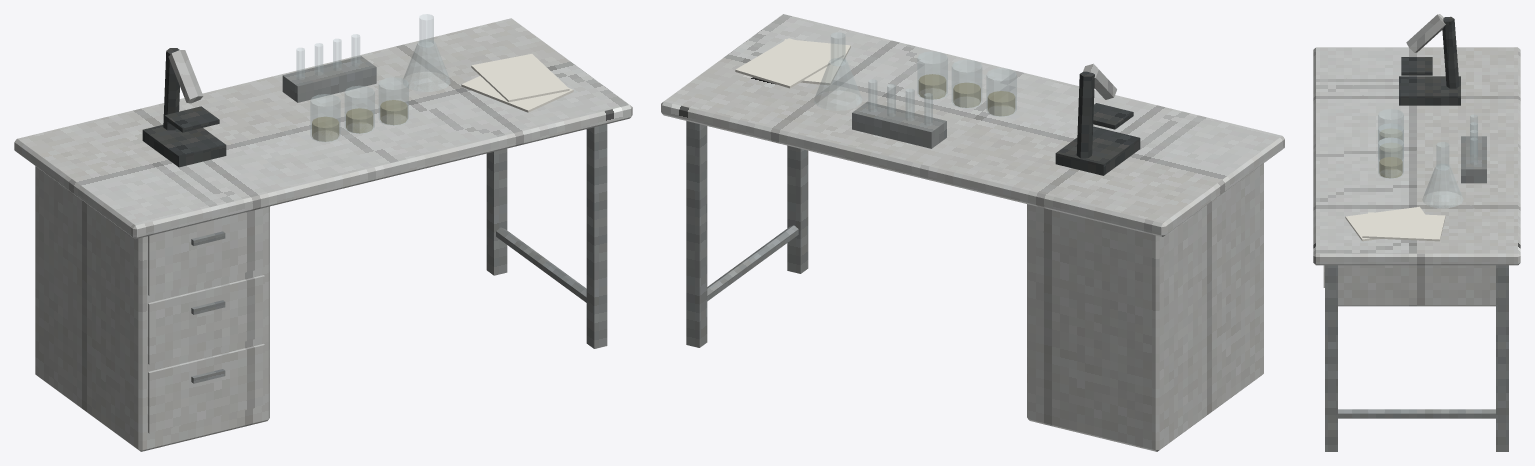
The model's file is lab_table.glb.
The picture shows the model from 3 angles, left to right: view 1: azimuth 30°, elevation 25°; view 2: azimuth 150°, elevation 25°; view 3: azimuth 270°, elevation 25°; orthographic projection. The views are drawn at different scales.
Parts seen in each view (by area): view 1: body; view 2: body; view 3: body.
Part boxes in pixels (x1,y1,x2,y2): body: (14,14,632,451); body: (661,14,1284,451); body: (1313,14,1520,451).
Size of the model in its own units: 1.9 by 1.22 by 0.8.
6 materials, 3 textured.
